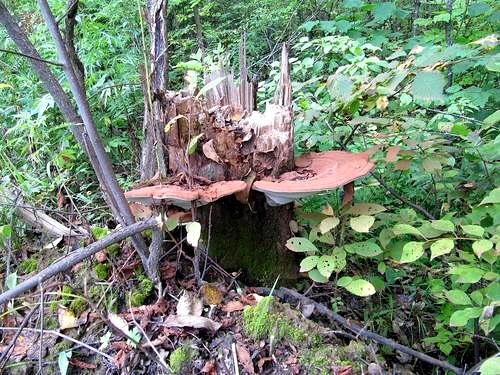Ganoderma - Fruit Body: (257, 150, 374, 206), (111, 172, 248, 209)
